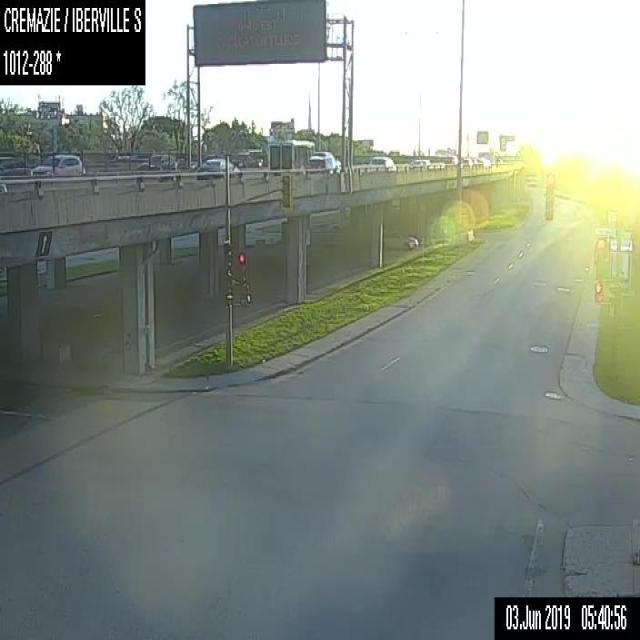vehicle: (266, 139, 314, 168), (31, 154, 85, 178), (138, 151, 176, 169), (0, 152, 28, 176), (202, 155, 240, 172), (309, 151, 340, 168), (369, 154, 396, 170), (409, 158, 432, 168), (403, 235, 418, 248), (472, 156, 490, 165), (443, 155, 457, 164), (461, 157, 472, 166)
